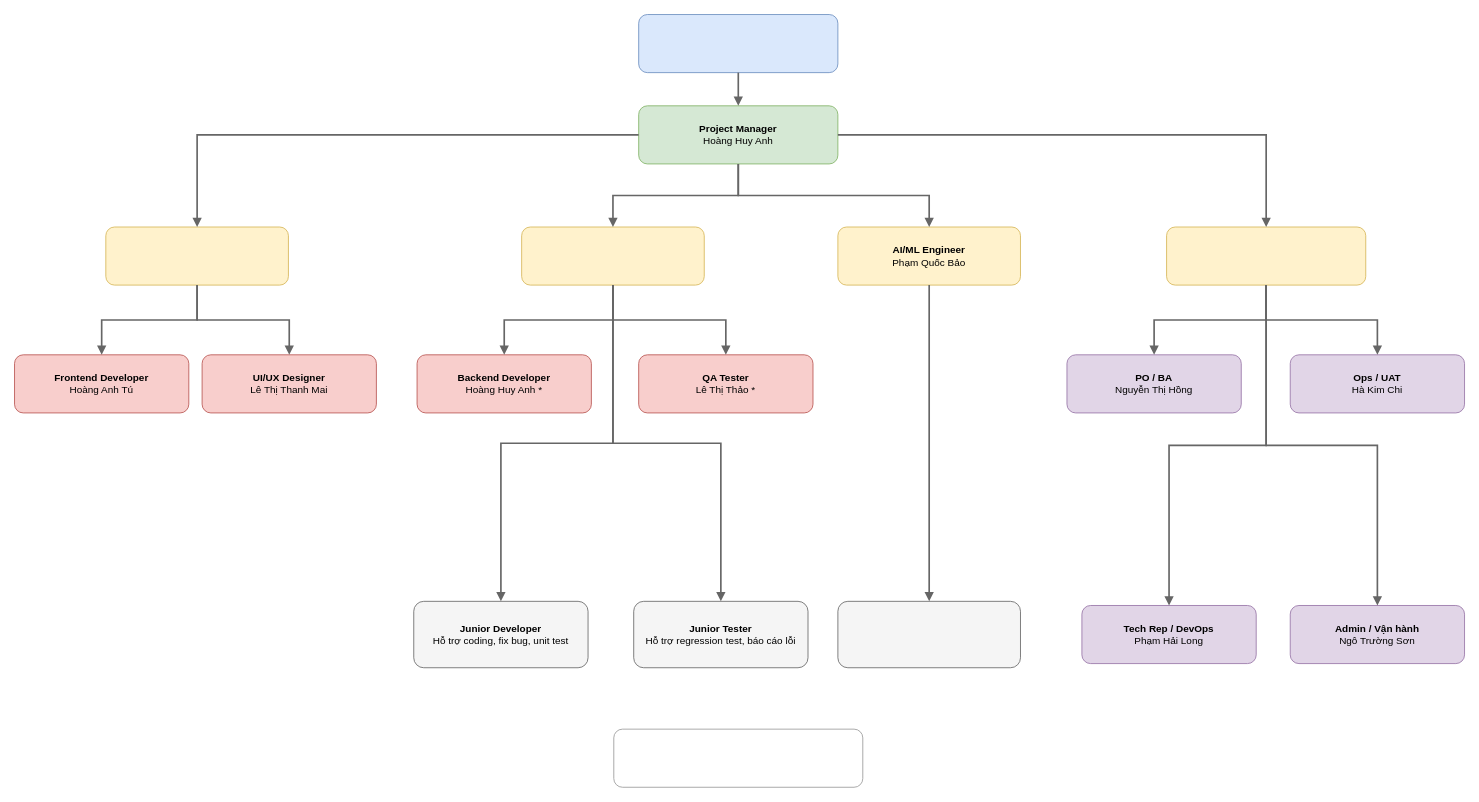
This 1479x802 diagram has some shape labels left out. The centre of each missing label's shape, as x and y in pixels:
"BA & QA Lead Lê Thị Thảo" goes at [612,255].
"Client Liaison — Edunity" goes at [1266,255].
"Junior AI Engineer Hỗ trợ data pipeline, testing model" goes at [928,634].
"Legend * = kiêm nhiệm / dual role Gray boxes = junior support roles" goes at [738,757].
"Project Sponsor Ban Giám đốc Edunity" goes at [738,43].
"System Architect Lê Anh Tuấn" goes at [196,255].
